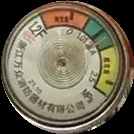green: (81, 19, 115, 49)
needle: (85, 34, 108, 51)
red: (40, 10, 92, 32)
yellow: (96, 45, 121, 99)
